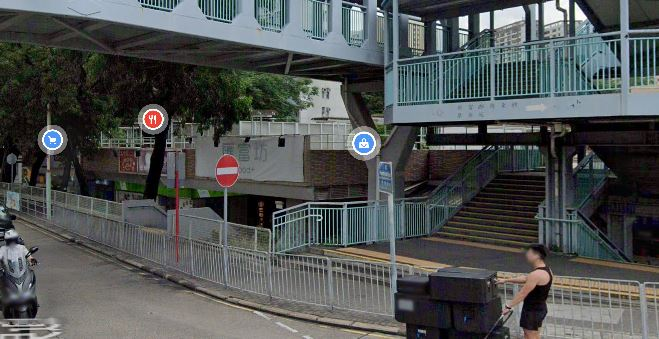No Enter: (213, 156, 242, 185)
